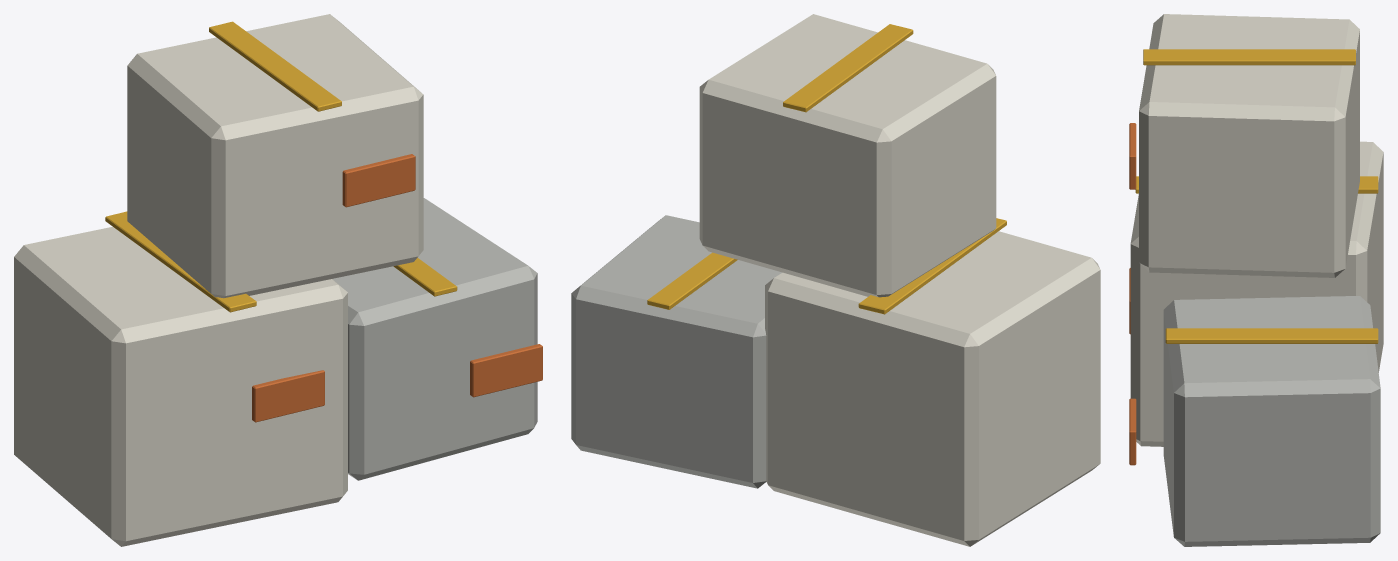
The model's file is PRP_CITY_008_cardboard_stack.glb.
3 views of the same model, side by side, from view 1: azimuth 30°, elevation 25°; view 2: azimuth 150°, elevation 25°; view 3: azimuth 270°, elevation 25° (orthographic). The views are drawn at different scales.
Parts seen in each view (by area): view 1: PRP_CITY_008_cardboard_stack_RenderMesh; view 2: PRP_CITY_008_cardboard_stack_RenderMesh; view 3: PRP_CITY_008_cardboard_stack_RenderMesh.
Boxes of the visible parts, x1=… form: PRP_CITY_008_cardboard_stack_RenderMesh: x1=14, y1=14, x2=542, y2=546; PRP_CITY_008_cardboard_stack_RenderMesh: x1=571, y1=14, x2=1100, y2=546; PRP_CITY_008_cardboard_stack_RenderMesh: x1=1129, y1=14, x2=1383, y2=546.
Bounding box in the file's own units: 1.31 × 1.14 × 0.675.
